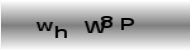8: (99, 15, 114, 28)
P: (120, 17, 135, 31)
W: (84, 20, 106, 33)
h: (53, 25, 68, 39)
w: (35, 21, 54, 32)
